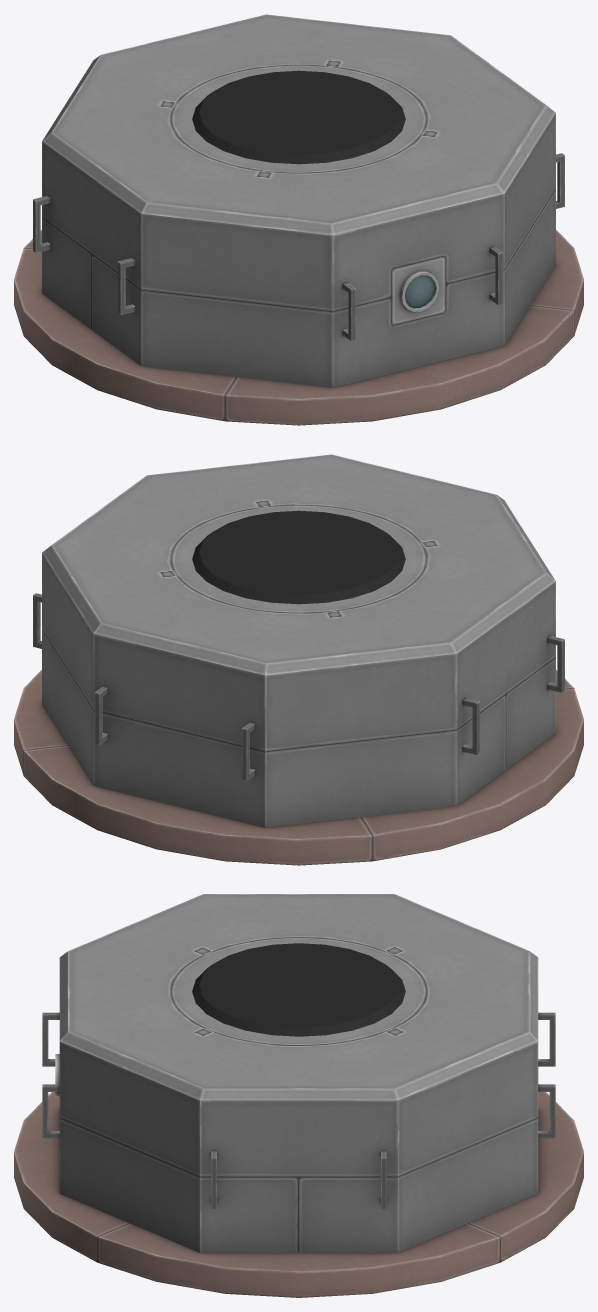
Rendered from Acamar_Lab_2.obj.
3 views of the same model, one above another, from view 1: azimuth 30°, elevation 25°; view 2: azimuth 150°, elevation 25°; view 3: azimuth 270°, elevation 25° (orthographic).
Parts seen in each view (by area): view 1: Acamar_Lab_2, Acamar_Lab_2_Window; view 2: Acamar_Lab_2; view 3: Acamar_Lab_2.
Boxes of the visible parts, x1=… form: Acamar_Lab_2: x1=14, y1=14, x2=583, y2=425; Acamar_Lab_2_Window: x1=405, y1=275, x2=435, y2=308; Acamar_Lab_2: x1=14, y1=454, x2=583, y2=865; Acamar_Lab_2: x1=14, y1=894, x2=583, y2=1297.
Size of the model in its own units: 2.5 by 0.93 by 2.5.
